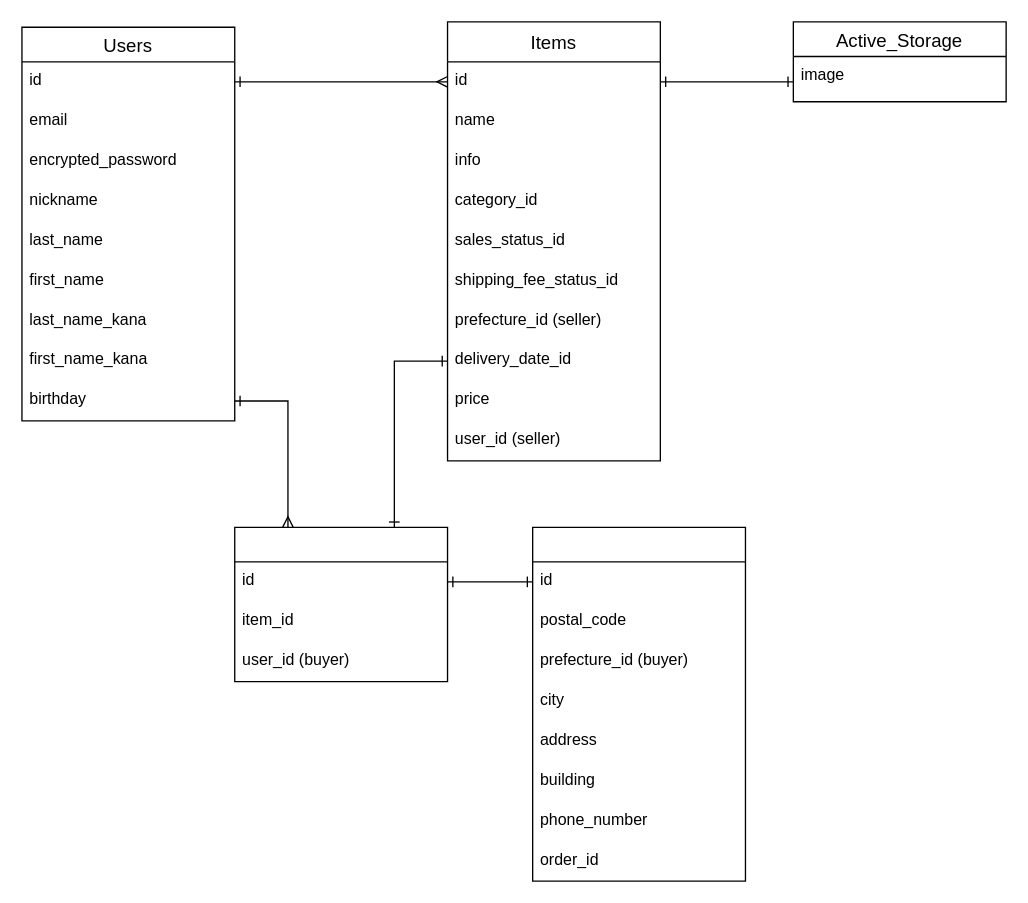
Image size: 1028x903. Some labels were removed from this diagram. Here are the shapes that lost their labels. From the top down, the box of each, then its label:
(233, 526, 448, 682): Orders
(531, 526, 745, 881): Deliveries
